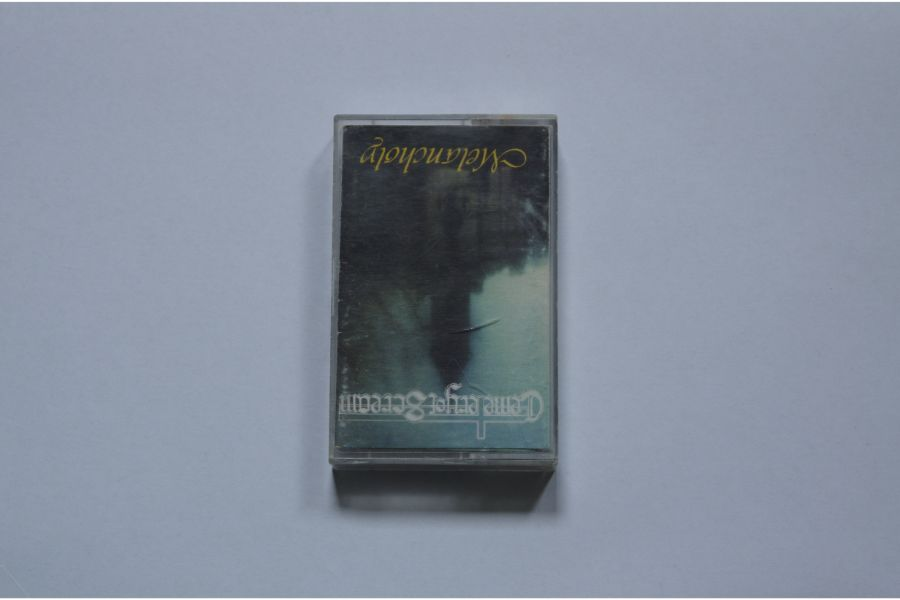album: (326, 111, 559, 475)
